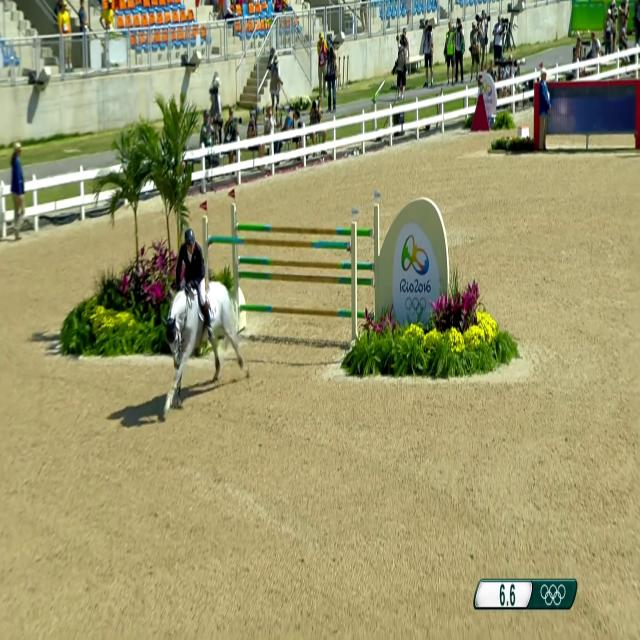Horse Running: (162, 232, 245, 442)
